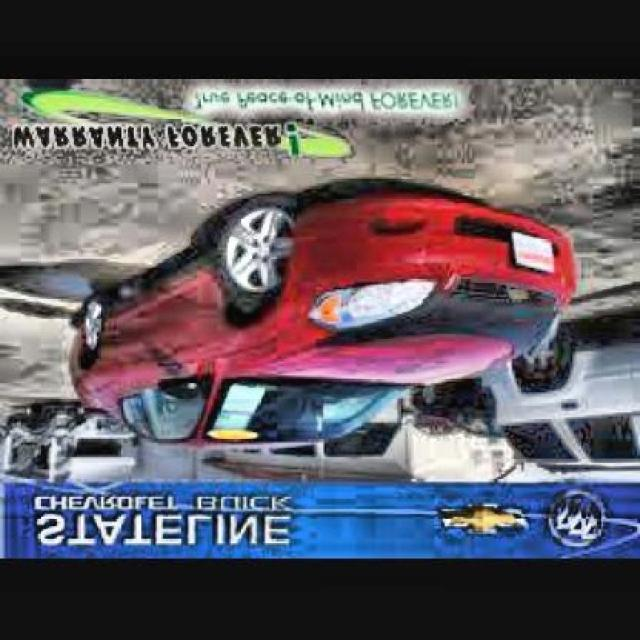red: (72, 218, 554, 467)
